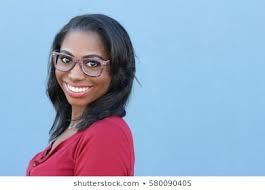Glasses: (46, 46, 111, 75)
